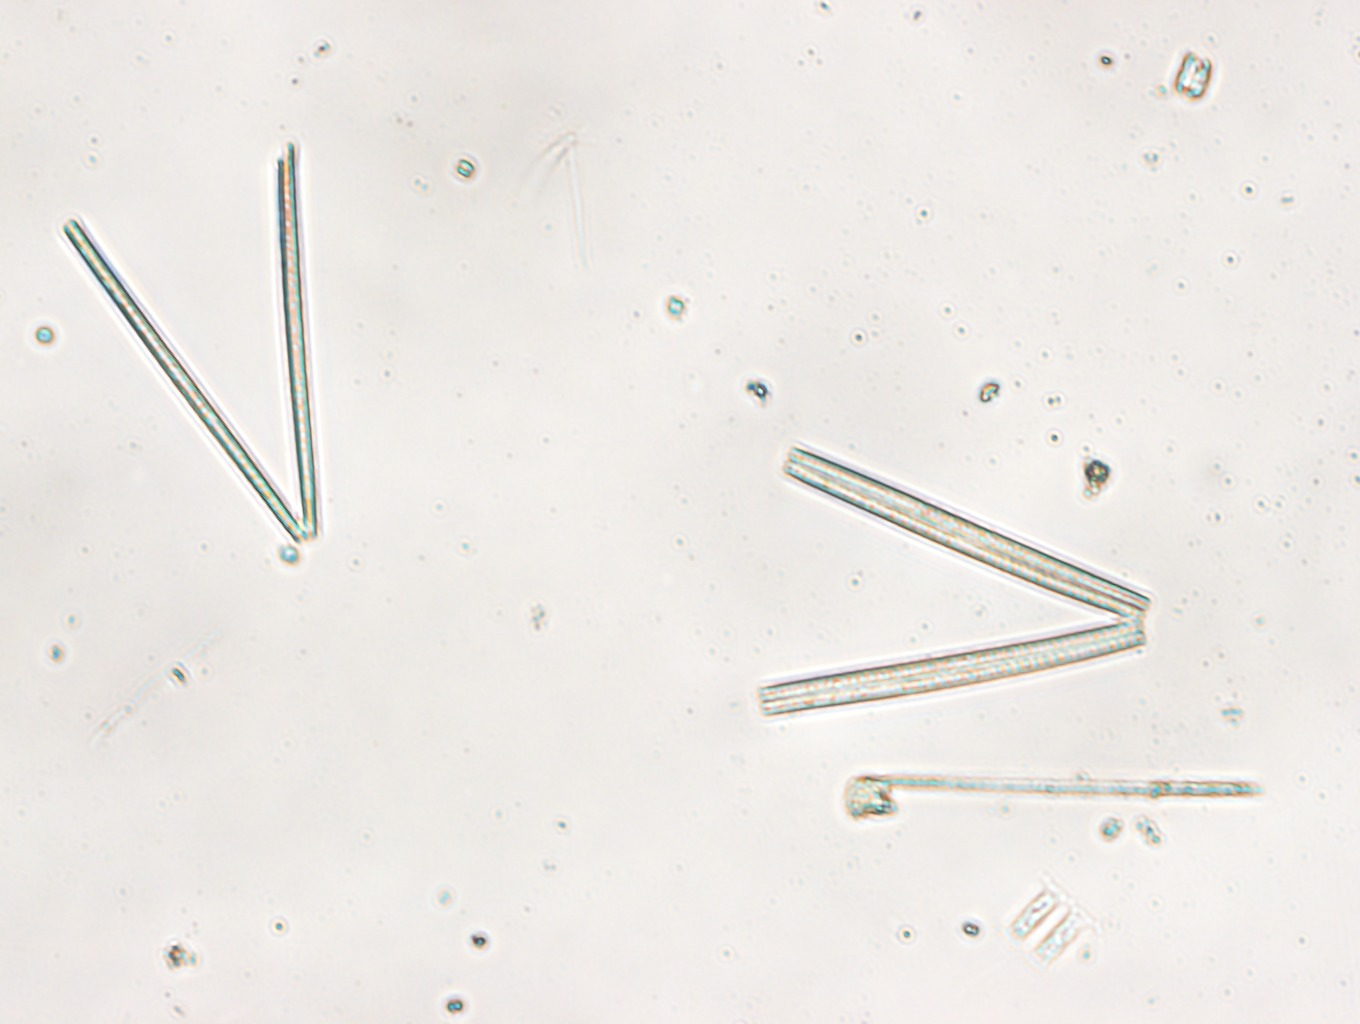thalassionema frauenfeldii: (757, 446, 1151, 719), (61, 144, 320, 542)
